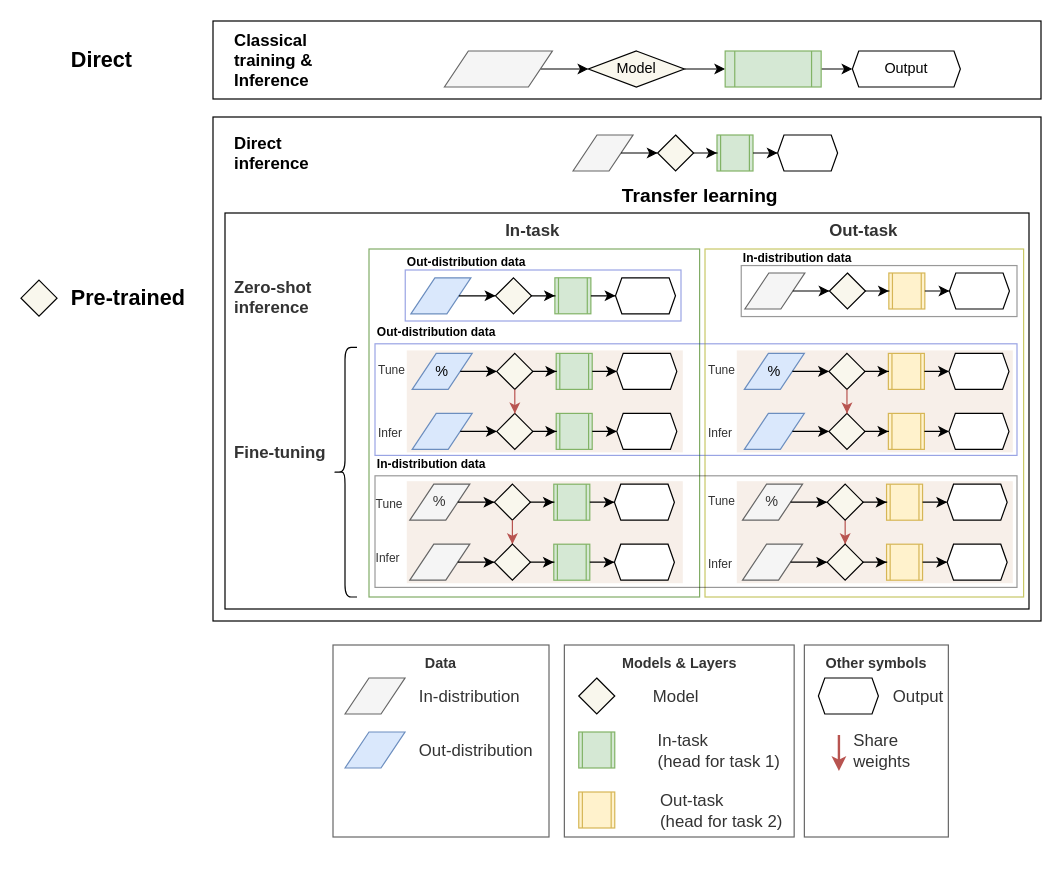
The diagram is 1062 pixels wide and 882 high, and some of its shapes have lost their labels. Each missing label, with the centre of its shape:
"Head for task 1" goes at (x=772, y=68).
"Train 1" goes at (x=497, y=68).
